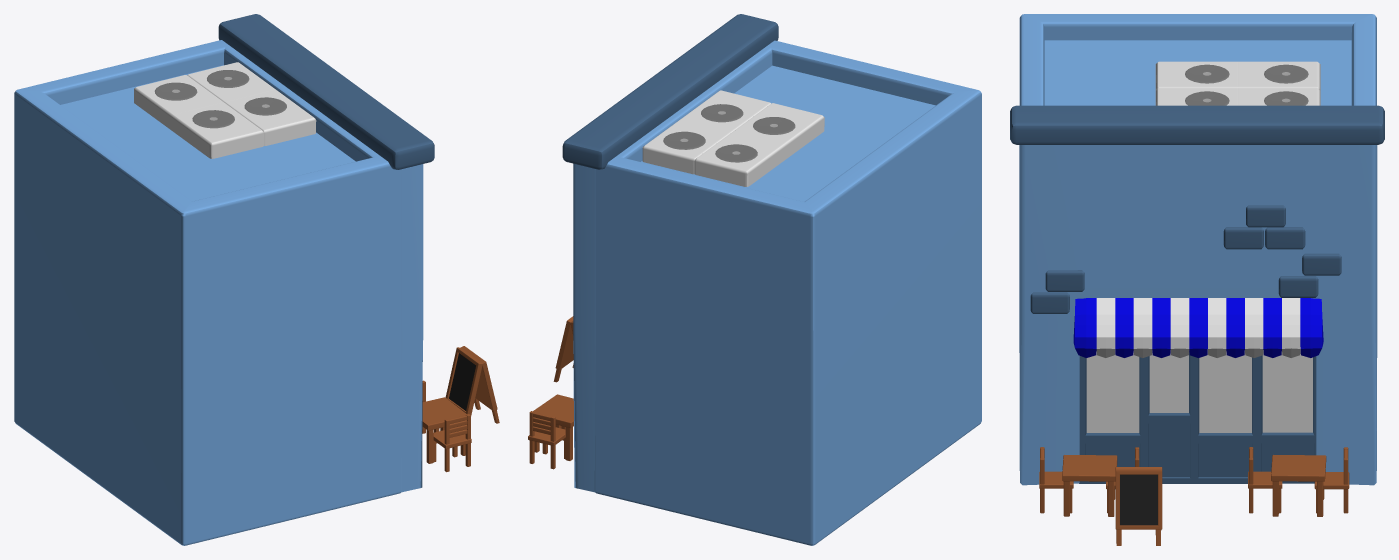
File: Cafe.fbx
3 views of the same model, side by side, from view 1: azimuth 30°, elevation 25°; view 2: azimuth 150°, elevation 25°; view 3: azimuth 270°, elevation 25° (orthographic). The views are drawn at different scales.
Visible parts, largest first — view 1: base, stand1, chair1, table1; view 2: base, chair4, table2, stand1; view 3: base, blinder1, stand1, table2, table1, chair4, chair1, chair3.
Boxes of the visible parts, left/top/right/bottom form: base: left=14, top=14, right=434, bottom=545; stand1: left=445, top=346, right=499, bottom=423; chair1: left=433, top=414, right=471, bottom=472; table1: left=422, top=397, right=466, bottom=463; base: left=562, top=14, right=981, bottom=545; chair4: left=528, top=411, right=565, bottom=469; table2: left=533, top=394, right=573, bottom=460; stand1: left=553, top=316, right=573, bottom=382; base: left=1010, top=14, right=1384, bottom=485; blinder1: left=1073, top=298, right=1323, bottom=357; stand1: left=1115, top=467, right=1162, bottom=545; table2: left=1271, top=455, right=1326, bottom=516; table1: left=1062, top=455, right=1117, bottom=516; chair4: left=1314, top=447, right=1349, bottom=513; chair1: left=1039, top=447, right=1073, bottom=513; chair3: left=1248, top=447, right=1282, bottom=513.
Bounding box in the file's own units: 812 × 746 × 692.
